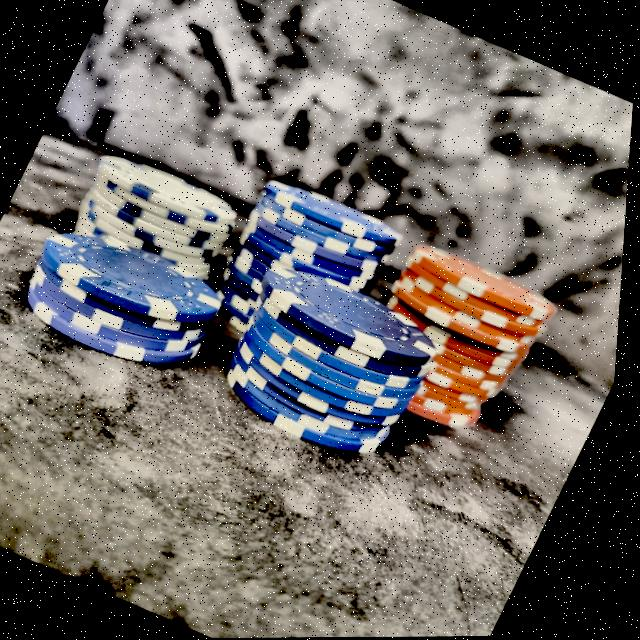Chip: (323, 207, 590, 481), (199, 245, 478, 488), (198, 164, 420, 384), (11, 204, 249, 397), (58, 134, 261, 306)
